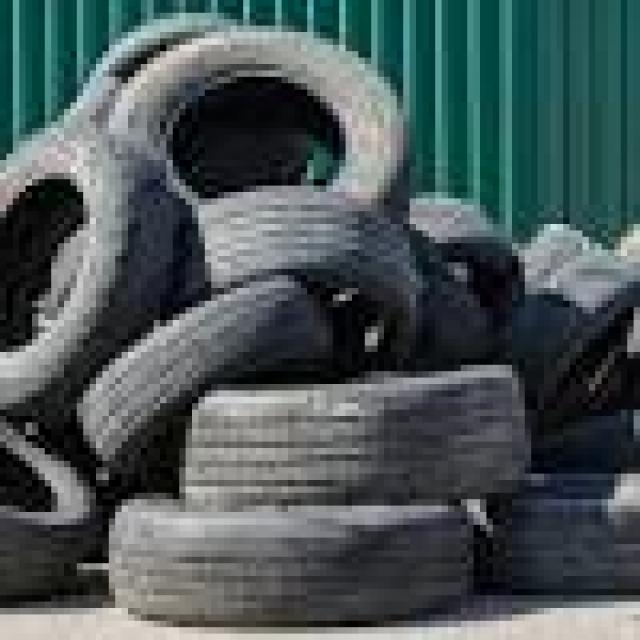Rubber -Non-Biodegradable but Recyclable-: (0, 14, 640, 617)
